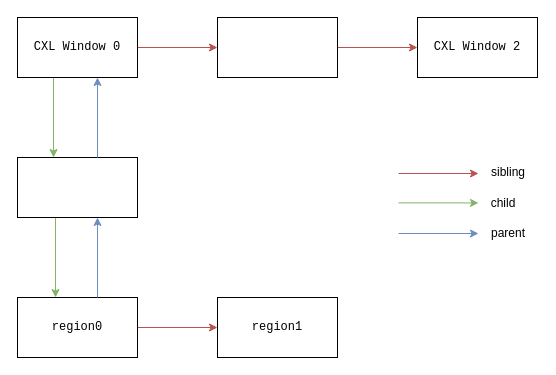
Image size: 556x375. Some labels were removed from this diagram. The centre of each missing label's shape, as x and y in pixels:
CXL Window 1: point (277, 47)
soft reserved: point (77, 187)
